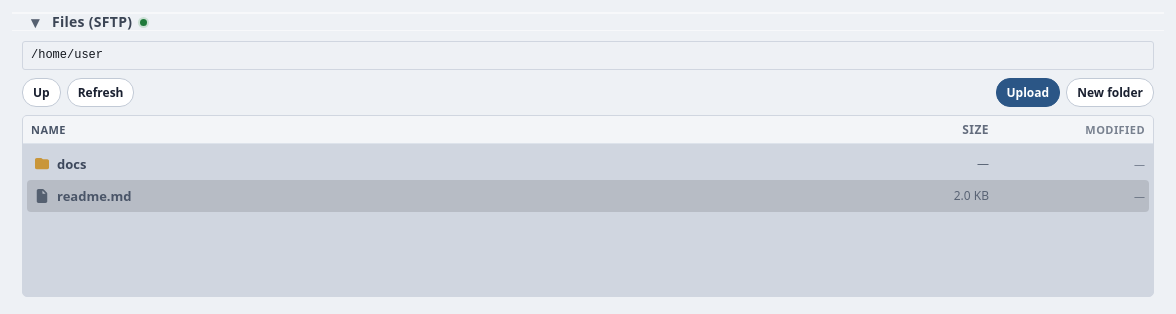
Test: SftpPanel listing › restores the current directory when Escape is pressed in the path field
Expected: the text "docs" is shown, [35,155,86,173]
Replace the text in the field named "Directory" with "/tmp" at (588, 55), box [22,41,1154,70]
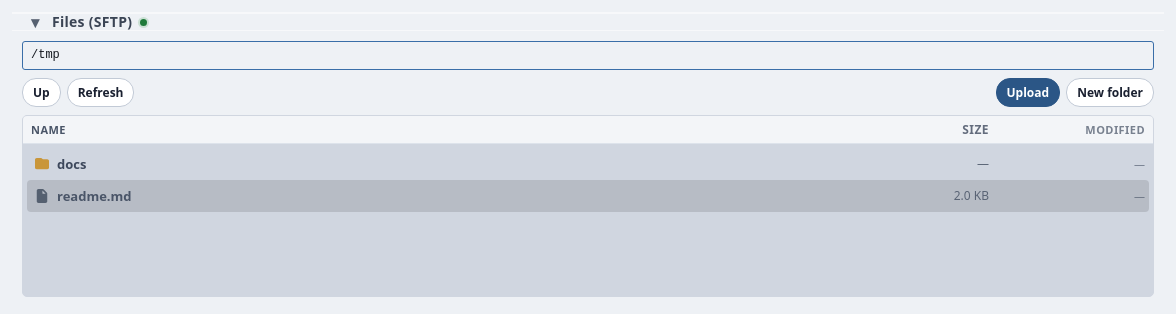
Press Escape
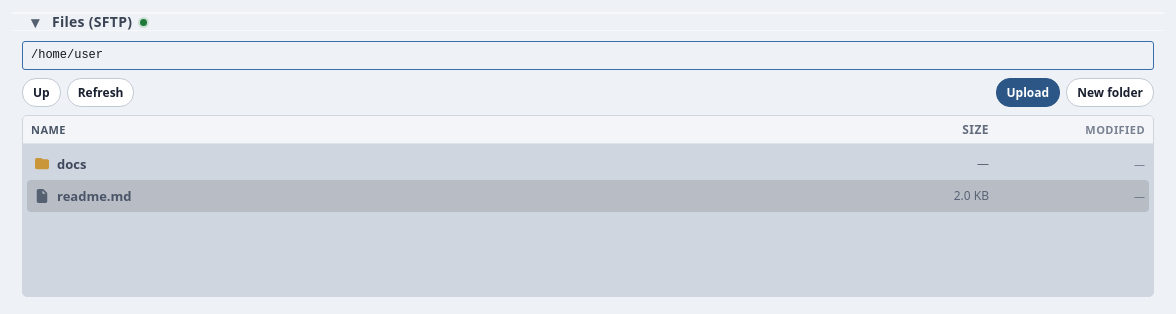
Expected: the field named "Directory" holds "/home/user", [22,41,1154,70]
